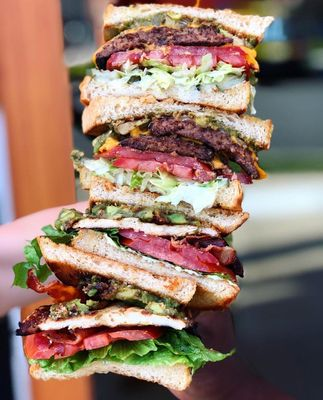soup: (10, 6, 279, 364)
